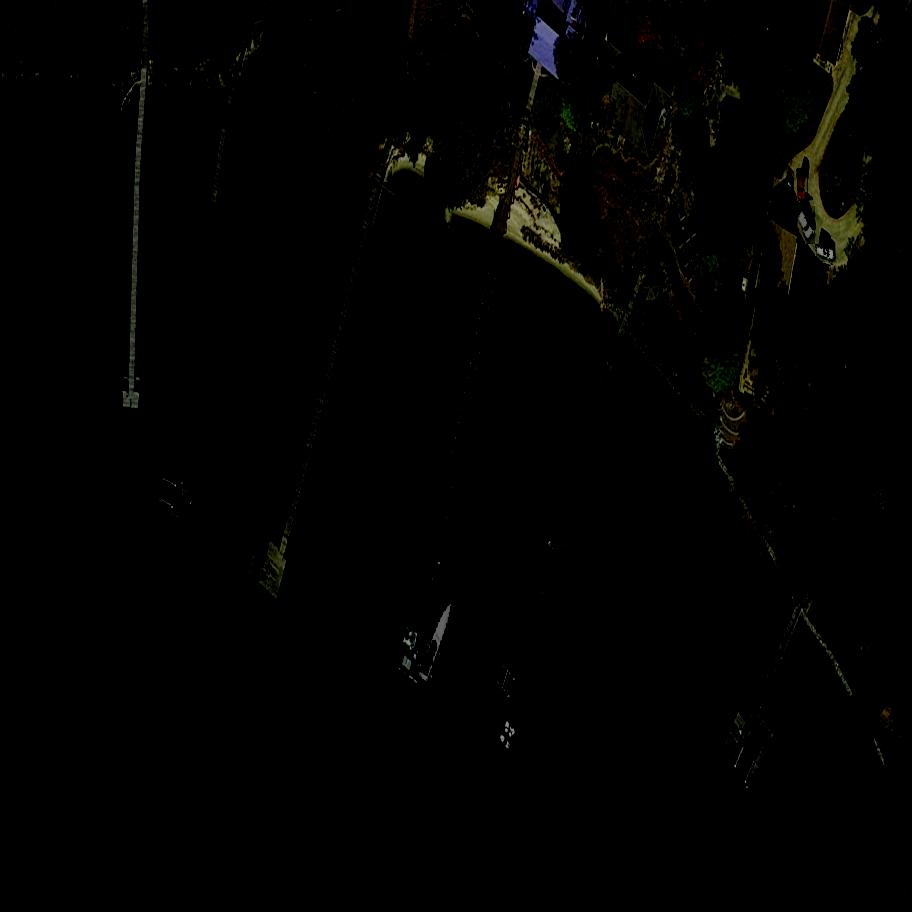ship: (417, 598, 457, 686), (423, 479, 448, 533)
small-vehicle: (795, 206, 818, 243), (814, 245, 839, 263), (798, 169, 808, 201)
